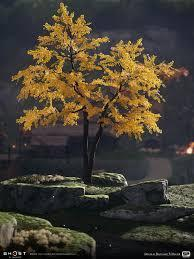tree: (10, 2, 176, 183)
